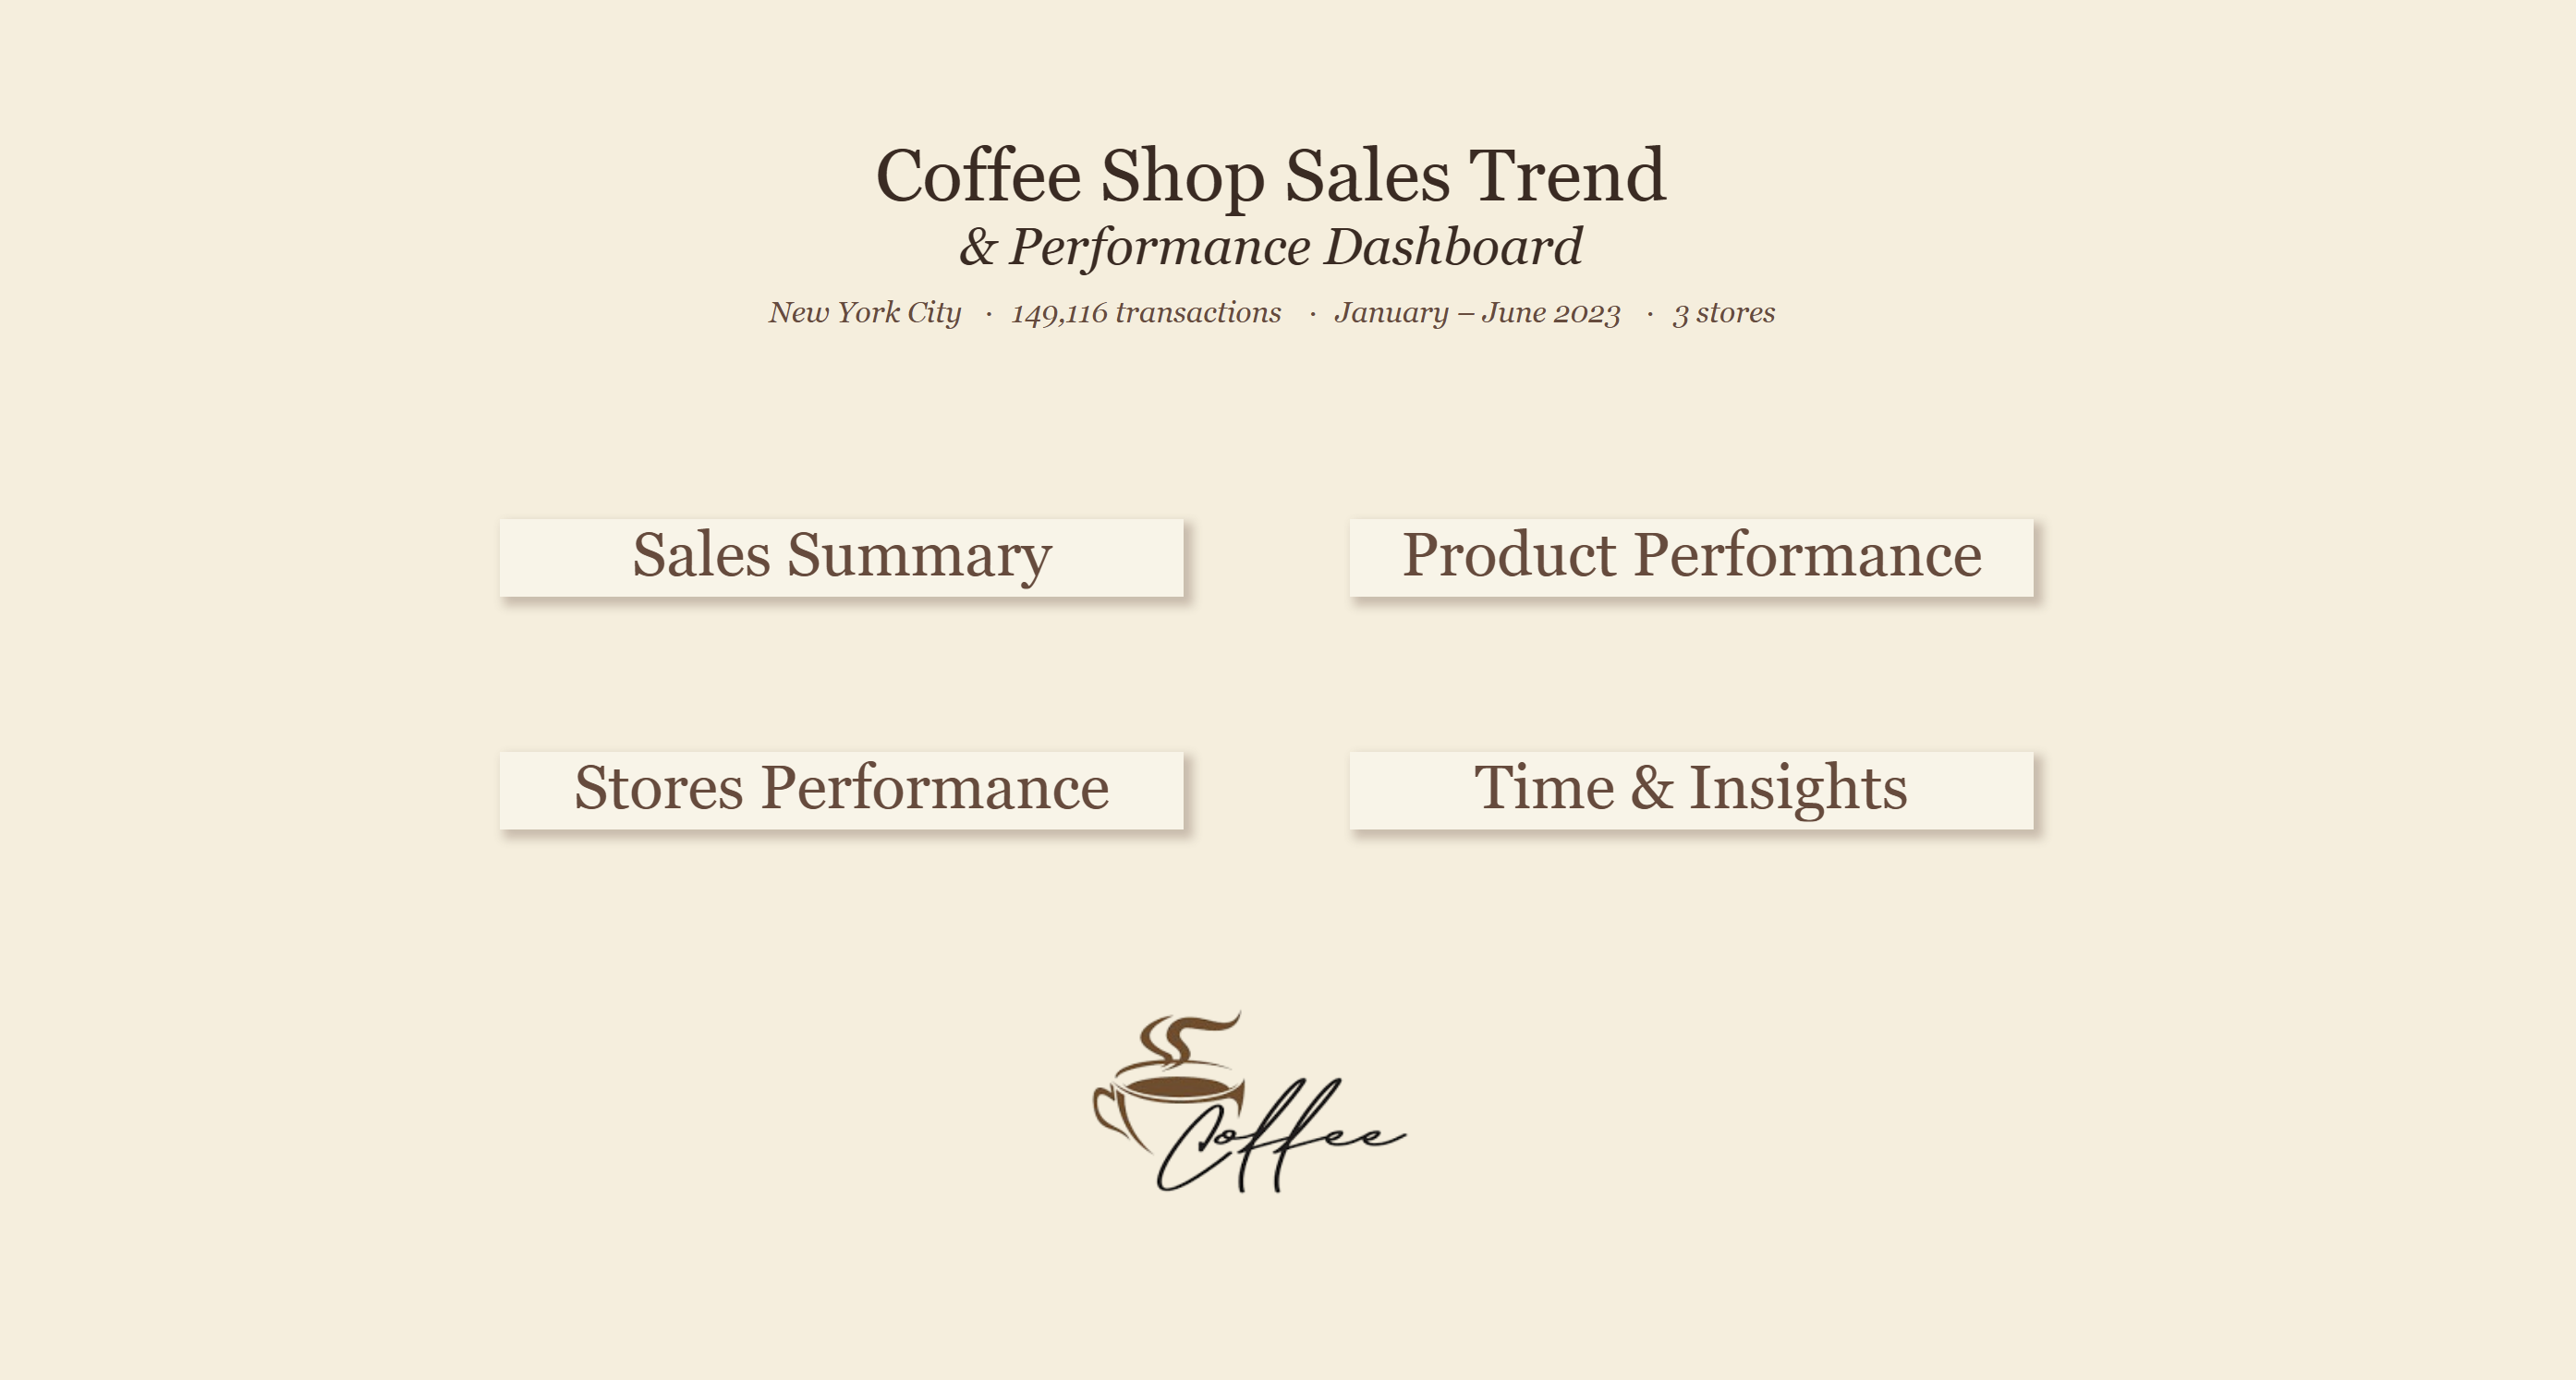

This screenshot's page, from the dashboard's own definition file:
{"tool":"powerbi","page":{"name":"Cover","canvas":[2800,1500],"ordinal":0},"visuals":[{"type":"textbox","box":[684,142,1390,173],"z":0},{"type":"actionButton","title":"Product Performance","box":[1464,565,740,84],"z":1000},{"type":"textbox","box":[535,317,1688,66],"z":2000},{"type":"image","box":[1112,1034,488,324],"z":3000},{"type":"actionButton","title":"Sales Summary","box":[544,565,740,84],"z":4000},{"type":"actionButton","title":"Stores Performance","box":[544,817,740,84],"z":5000},{"type":"actionButton","title":"Time & Insights","box":[1464,817,740,84],"z":6000}]}

Visuals, with their boxes in screenshot pixels (x1, y1, x2, y2), scaled from the page's 2800x1500 canvas onto the 2576x1380 screenshot:
textbox: (629, 130, 1908, 290)
"Product Performance" actionButton: (1347, 520, 2028, 597)
textbox: (492, 292, 2045, 352)
image: (1023, 951, 1472, 1250)
"Sales Summary" actionButton: (501, 520, 1181, 597)
"Stores Performance" actionButton: (501, 752, 1181, 829)
"Time & Insights" actionButton: (1347, 752, 2028, 829)
